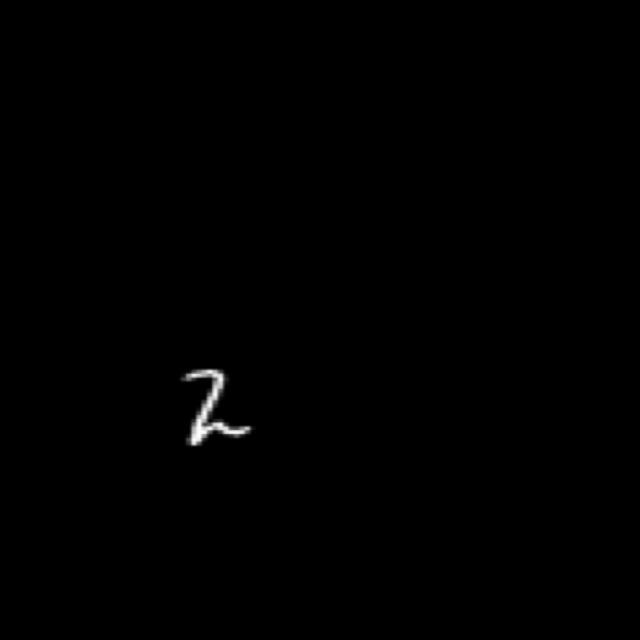two -2-: (162, 358, 270, 452)
